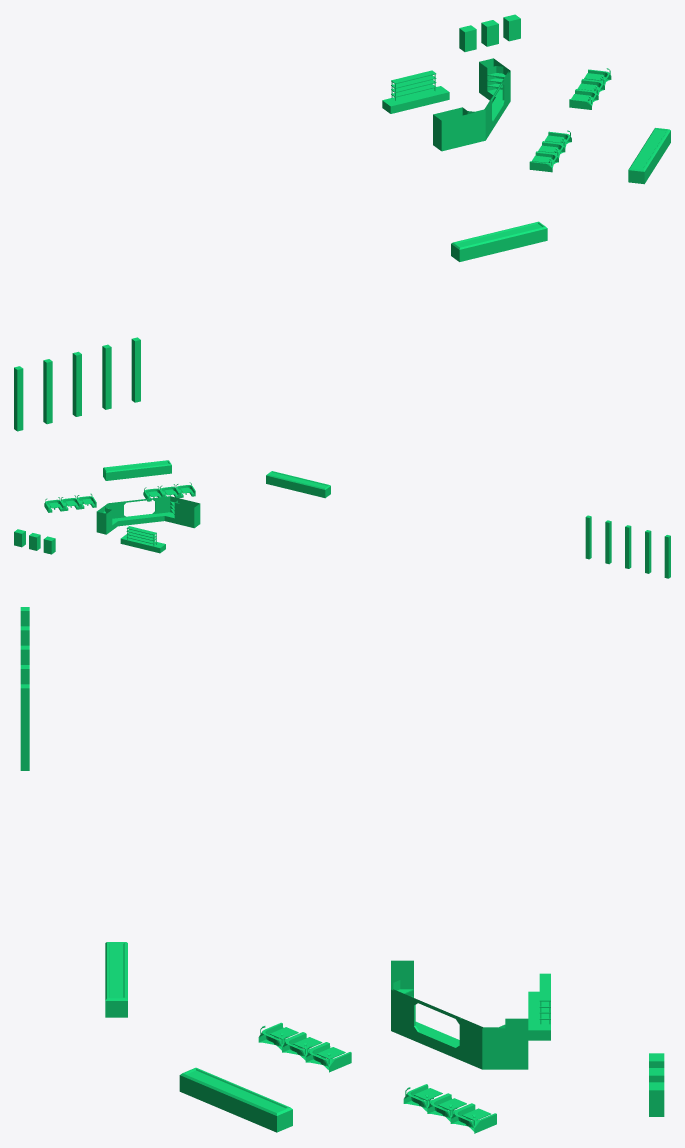
The model's file is Encounter_002_Details.fbx.
3 renders of one model, top to bottom at view 1: azimuth 30°, elevation 25°; view 2: azimuth 150°, elevation 25°; view 3: azimuth 270°, elevation 25°, orthographic. The views are drawn at different scales.
Parts seen in each view (by area): view 1: Encounter_002_Detail; view 2: Encounter_002_Detail; view 3: Encounter_002_Detail.
Boxes of the visible parts, bbox=[...] form: Encounter_002_Detail: bbox=[14, 14, 670, 431]; Encounter_002_Detail: bbox=[14, 460, 670, 578]; Encounter_002_Detail: bbox=[20, 607, 664, 1133].
Bounding box in the file's own units: 10369 × 950 × 5631.
